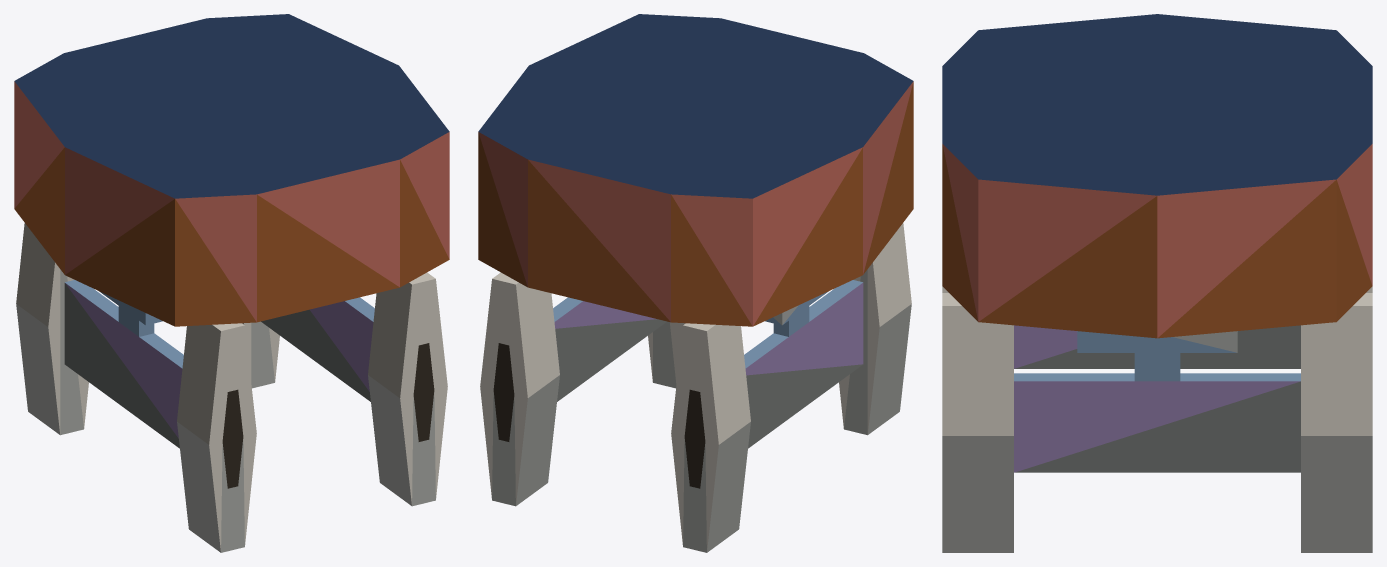
File: skateboard.glb
3 renders of one model, left to right at view 1: azimuth 30°, elevation 25°; view 2: azimuth 150°, elevation 25°; view 3: azimuth 270°, elevation 25°, orthographic. The views are drawn at different scales.
Size of the model in its own units: 1 by 1 by 1.
